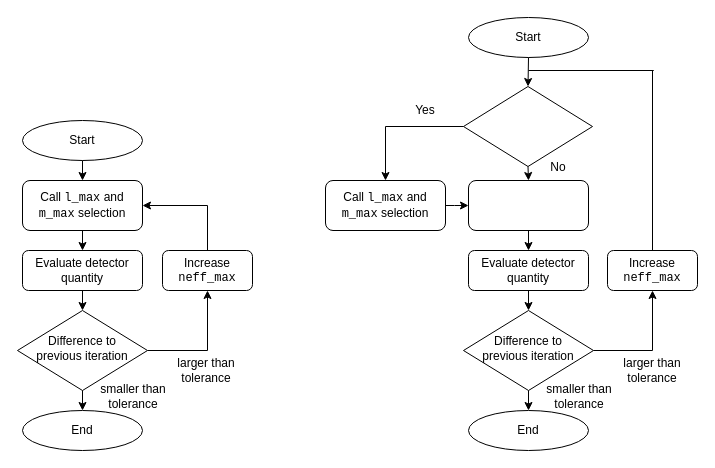
Image size: 715x468. Some labels were removed from this diagram. The shapes that lost their labels are listed below. From the top down, each one's box as (x1, y1, x2, y2) in pixels, then its label:
(462, 86, 592, 166): Relative convergence?
(468, 180, 588, 230): Run simulation
